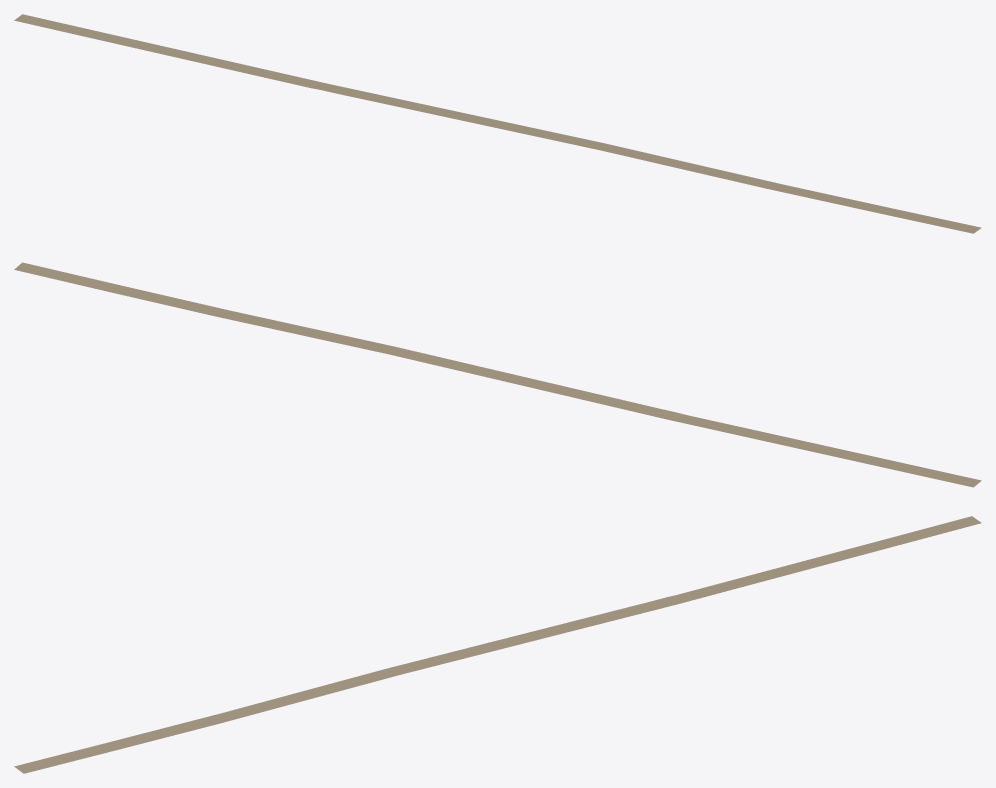
The model's file is farm_15_35_track.glb.
3 views of the same model, one above another, from view 1: azimuth 30°, elevation 25°; view 2: azimuth 210°, elevation 25°; view 3: azimuth 270°, elevation 25° (orthographic). The views are drawn at different scales.
Visible parts, largest first — view 1: geometry_0; view 2: geometry_0; view 3: geometry_0.
Part boxes in pixels (bbox=[...]): geometry_0: bbox=[14, 14, 981, 233]; geometry_0: bbox=[14, 262, 981, 487]; geometry_0: bbox=[14, 516, 981, 773].
Bounding box in the file's own units: 108 × 0.7364 × 170.
